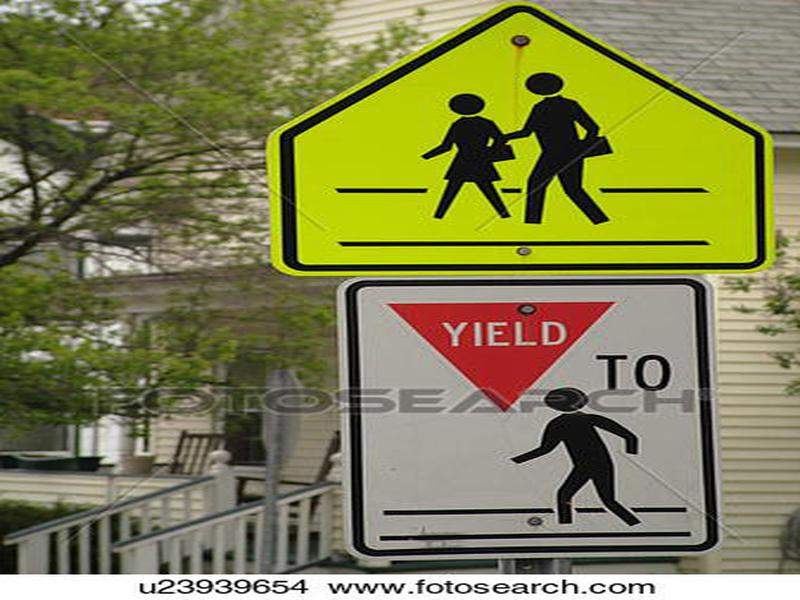slow: (255, 1, 786, 279)
